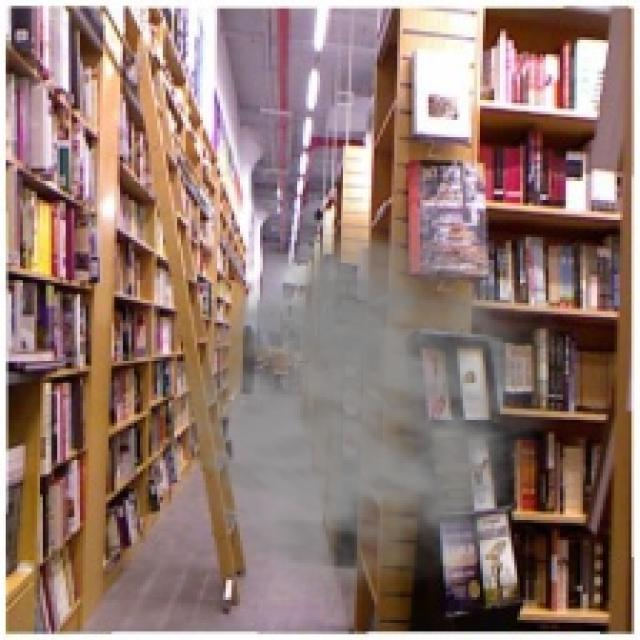smoke: (171, 191, 583, 603)
